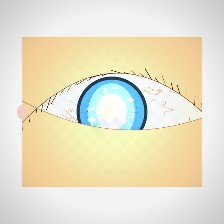corneal_ulcer: (81, 88, 142, 136)
